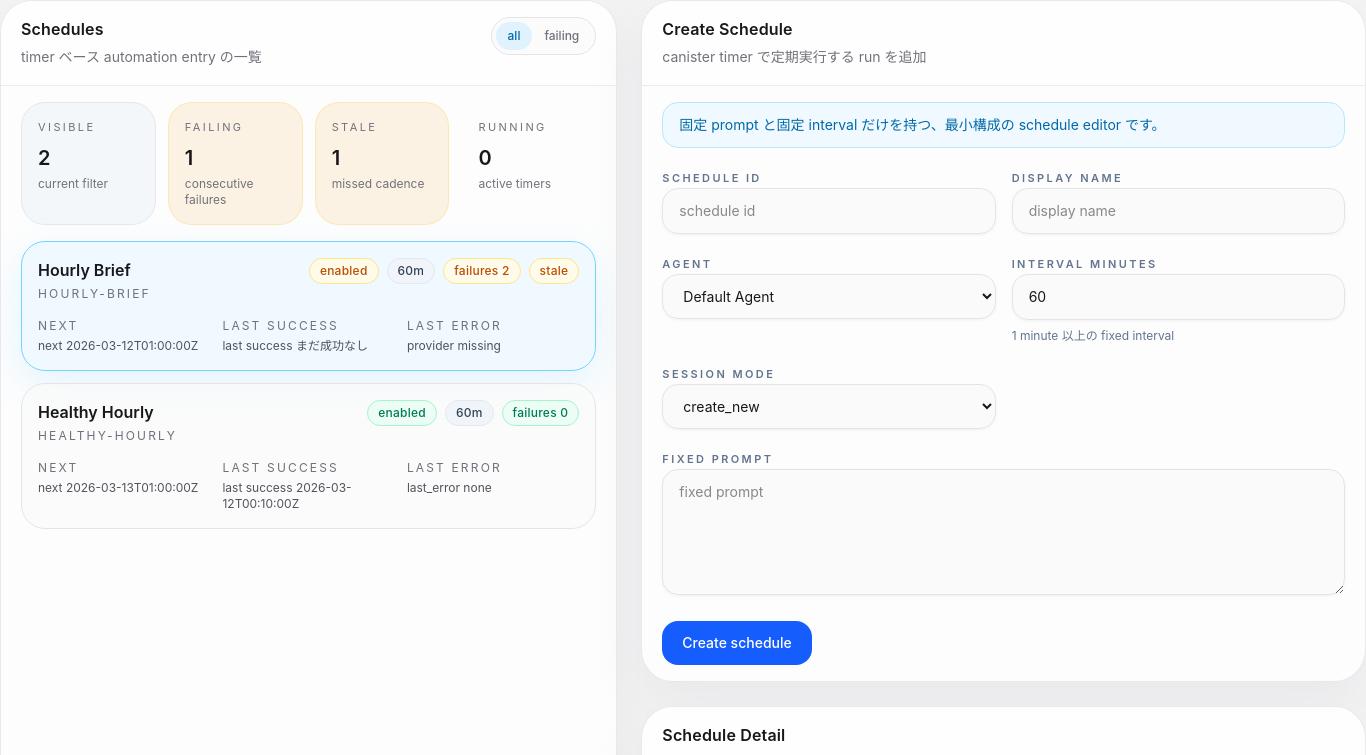
SchedulesPage › filters list to failing schedules only
Click the button "failing" at (562, 36), box [532,22,591,50]
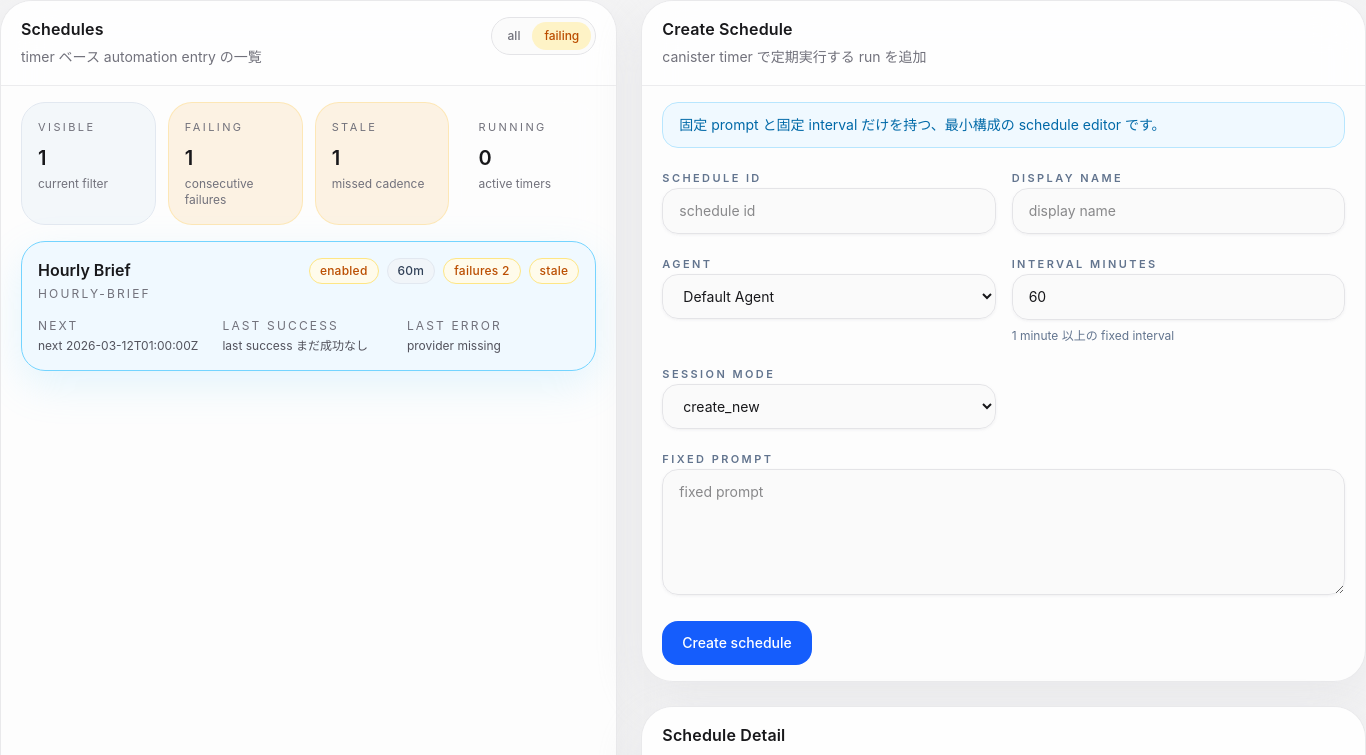
Expected: the text "Hourly Brief" is shown, [38,260,131,280]
Expected: the text "Healthy Hourly" is gone
